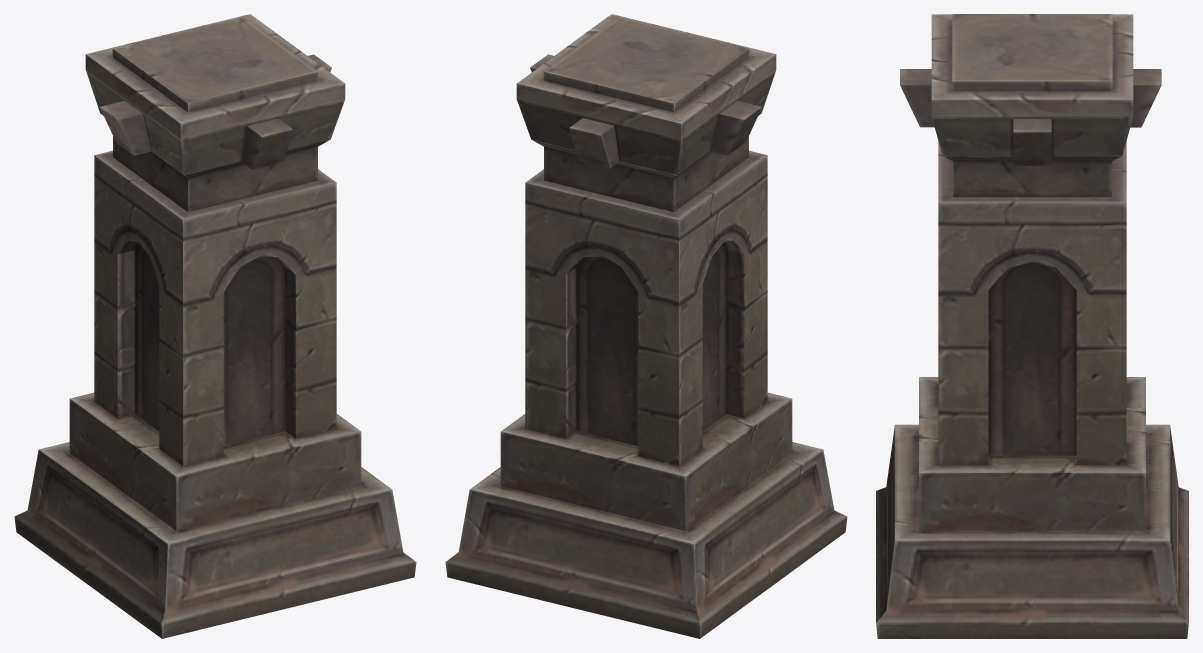
File: zhuzi_01.FBX
The picture shows the model from 3 angles, left to right: view 1: azimuth 30°, elevation 25°; view 2: azimuth 150°, elevation 25°; view 3: azimuth 270°, elevation 25°; orthographic projection. The views are drawn at different scales.
Parts seen in each view (by area): view 1: zhuzi_01; view 2: zhuzi_01; view 3: zhuzi_01.
Part boxes in pixels (x1,y1,x2,y2): zhuzi_01: [14, 14, 416, 638]; zhuzi_01: [445, 14, 847, 638]; zhuzi_01: [876, 14, 1188, 638].
Size of the model in its own units: 343 by 636 by 343.
